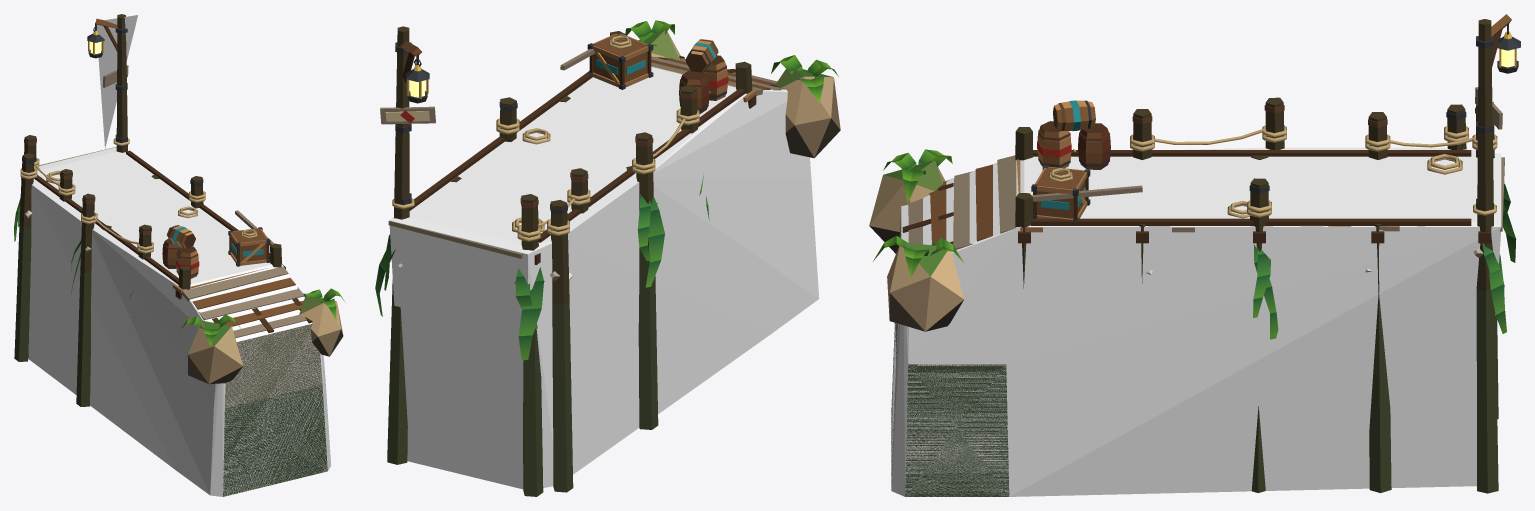
File: coastal_smuggler_jetty.glb
3 renders of one model, left to right at view 1: azimuth 30°, elevation 25°; view 2: azimuth 150°, elevation 25°; view 3: azimuth 270°, elevation 25°, orthographic. The views are drawn at different scales.
Visible parts, largest first — view 1: col_jetty_deck, CoastalSmugglerJetty, col_jetty_bollard; view 2: col_jetty_deck, CoastalSmugglerJetty; view 3: col_jetty_deck, CoastalSmugglerJetty.
Part boxes in pixels (x1=…): col_jetty_deck: x1=21, y1=147, x2=331, y2=496; CoastalSmugglerJetty: x1=14, y1=14, x2=344, y2=496; col_jetty_bollard: x1=97, y1=15, x2=137, y2=148; col_jetty_deck: x1=389, y1=66, x2=819, y2=489; CoastalSmugglerJetty: x1=375, y1=20, x2=840, y2=496; col_jetty_deck: x1=891, y1=147, x2=1501, y2=496; CoastalSmugglerJetty: x1=869, y1=14, x2=1520, y2=496.
Size of the model in its own units: 5.36 by 10.36 by 13.02.
